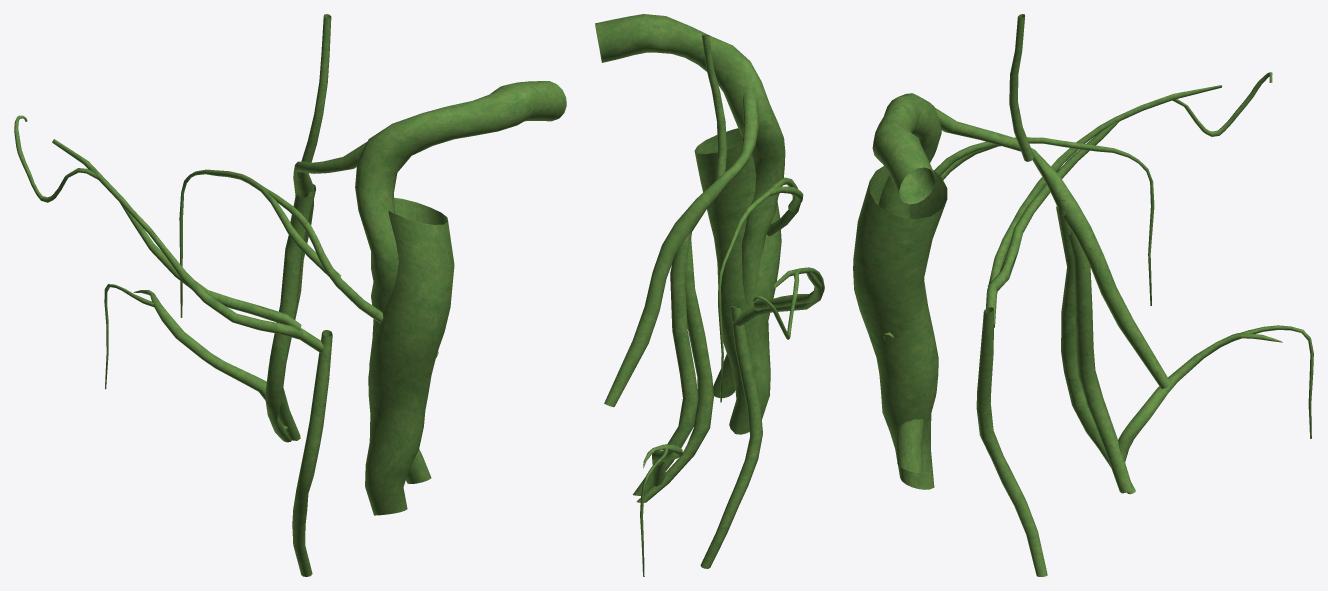
Rendered from SM_ENV_KNFRST_LargeTreeRoot_D.FBX.
The picture shows the model from 3 angles, left to right: view 1: azimuth 30°, elevation 25°; view 2: azimuth 150°, elevation 25°; view 3: azimuth 270°, elevation 25°; orthographic projection. The views are drawn at different scales.
Parts seen in each view (by area): view 1: SM_ENV_KNFRST_LargeTreeRoot_D; view 2: SM_ENV_KNFRST_LargeTreeRoot_D; view 3: SM_ENV_KNFRST_LargeTreeRoot_D.
Part boxes in pixels (x1,y1,x2,y2): SM_ENV_KNFRST_LargeTreeRoot_D: (14, 14, 566, 576); SM_ENV_KNFRST_LargeTreeRoot_D: (595, 14, 824, 576); SM_ENV_KNFRST_LargeTreeRoot_D: (853, 14, 1313, 576).
Size of the model in its own units: 1985 by 2869 by 2116.
